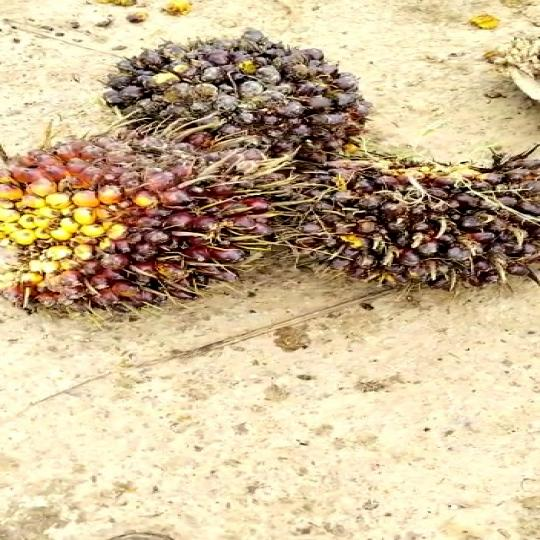kurang masak: (0, 135, 310, 332), (90, 26, 375, 178), (278, 145, 540, 299)
